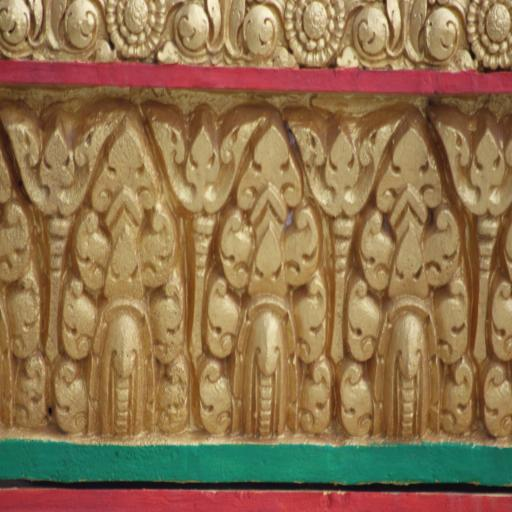hoa: (290, 0, 344, 66), (106, 0, 163, 58), (470, 0, 512, 66)
la: (345, 117, 478, 437), (63, 114, 188, 443), (212, 121, 331, 434), (152, 111, 235, 438), (8, 101, 88, 435), (296, 114, 376, 441), (438, 106, 512, 439), (343, 0, 470, 67), (162, 0, 290, 64), (0, 0, 105, 60)
